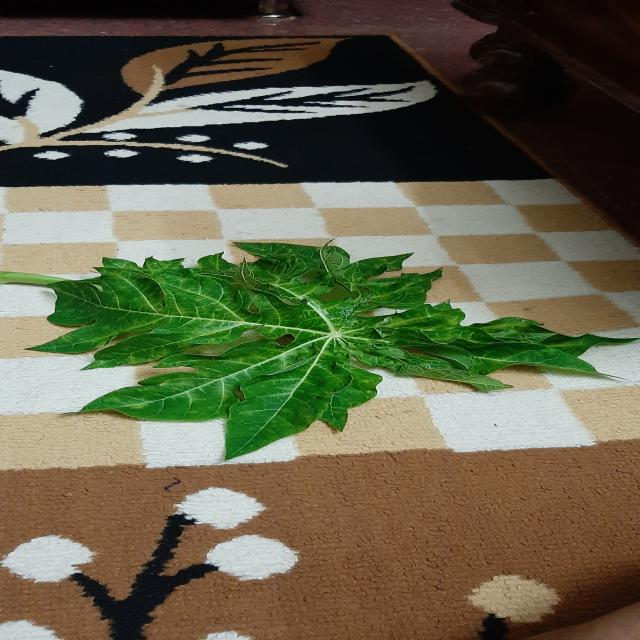papaya: (27, 242, 634, 459)
